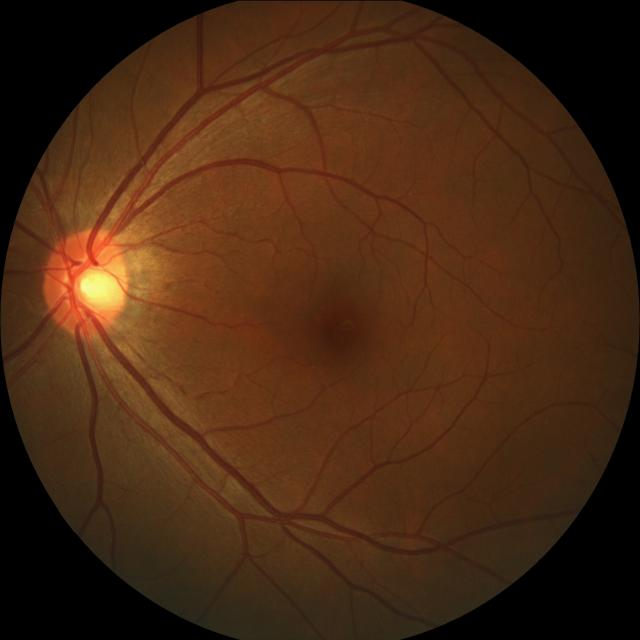OC: (67, 256, 123, 312)
OD: (45, 227, 131, 337)
